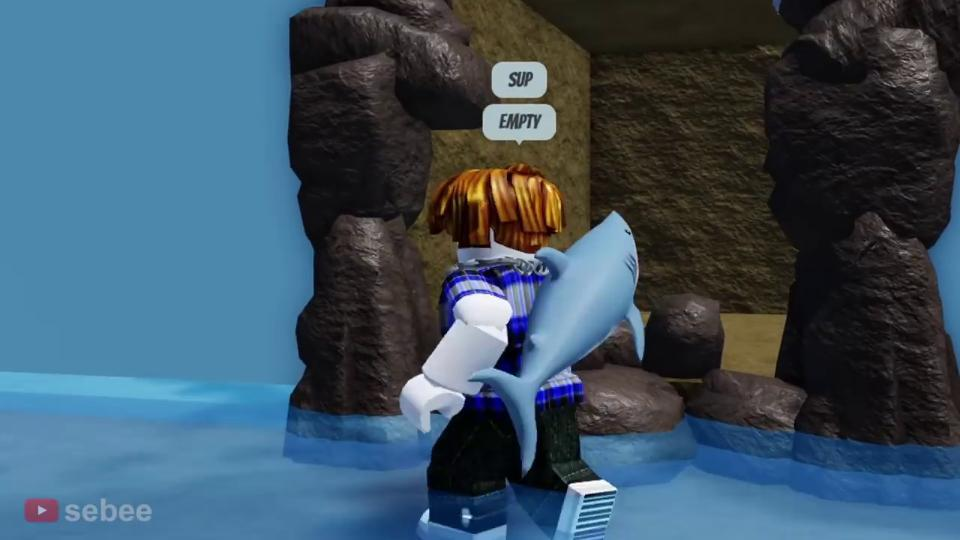Character: (400, 162, 618, 540)
